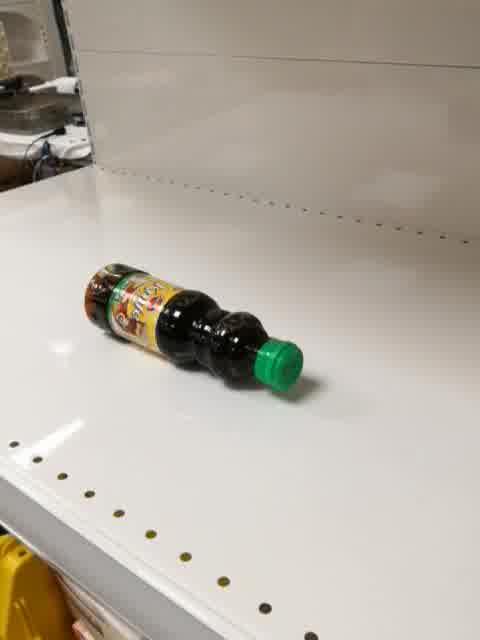cookingoil: (82, 257, 308, 398)
